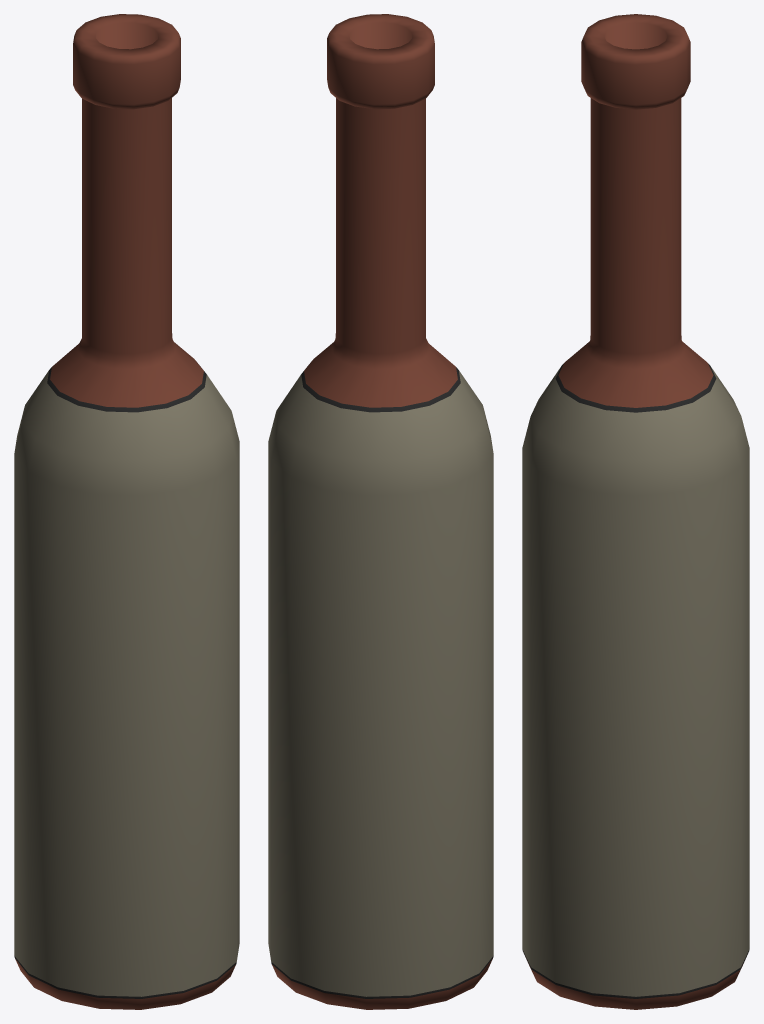
Rendered from Bottle001.fbx.
The picture shows the model from 3 angles, left to right: view 1: azimuth 30°, elevation 25°; view 2: azimuth 150°, elevation 25°; view 3: azimuth 270°, elevation 25°; orthographic projection.
Visible parts, largest first — view 1: Cylinder; view 2: Cylinder; view 3: Cylinder.
Boxes of the visible parts, bbox=[...] form: Cylinder: bbox=[14, 14, 239, 1009]; Cylinder: bbox=[268, 14, 493, 1009]; Cylinder: bbox=[522, 14, 749, 1009].
Bounding box in the file's own units: 56.55 × 257 × 56.55.
